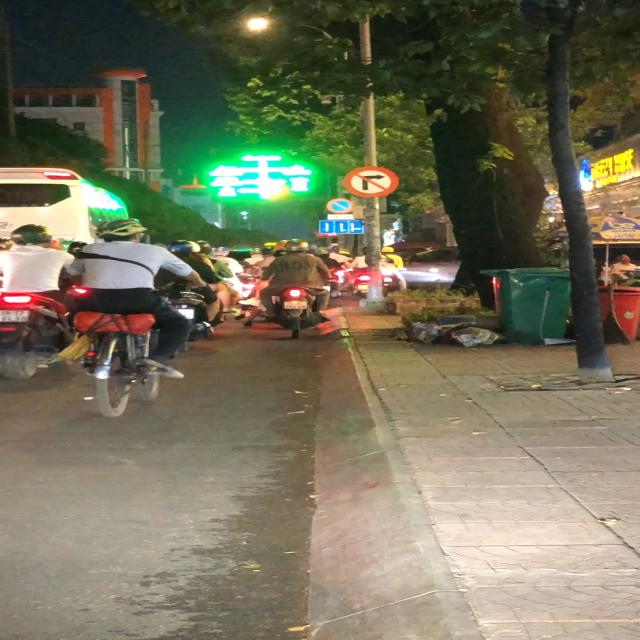Bien bao cam re phai: (343, 165, 402, 198)
